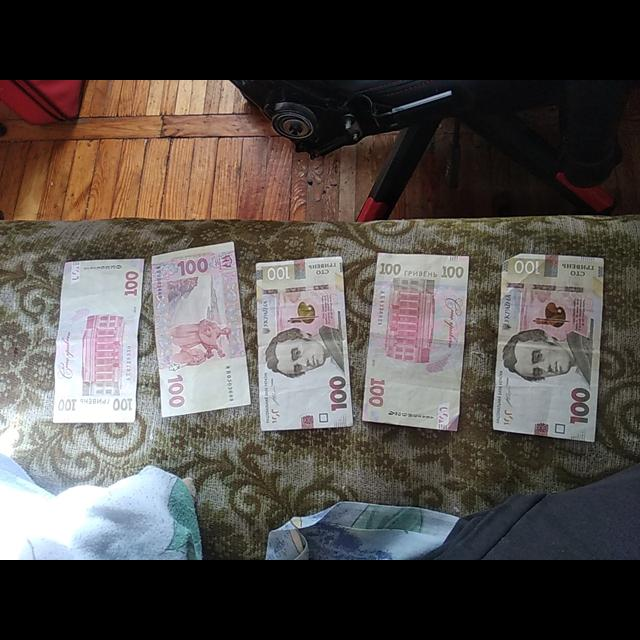100uah: (493, 252, 603, 441), (362, 252, 470, 430), (152, 244, 251, 419), (255, 259, 352, 430), (53, 259, 145, 424)
